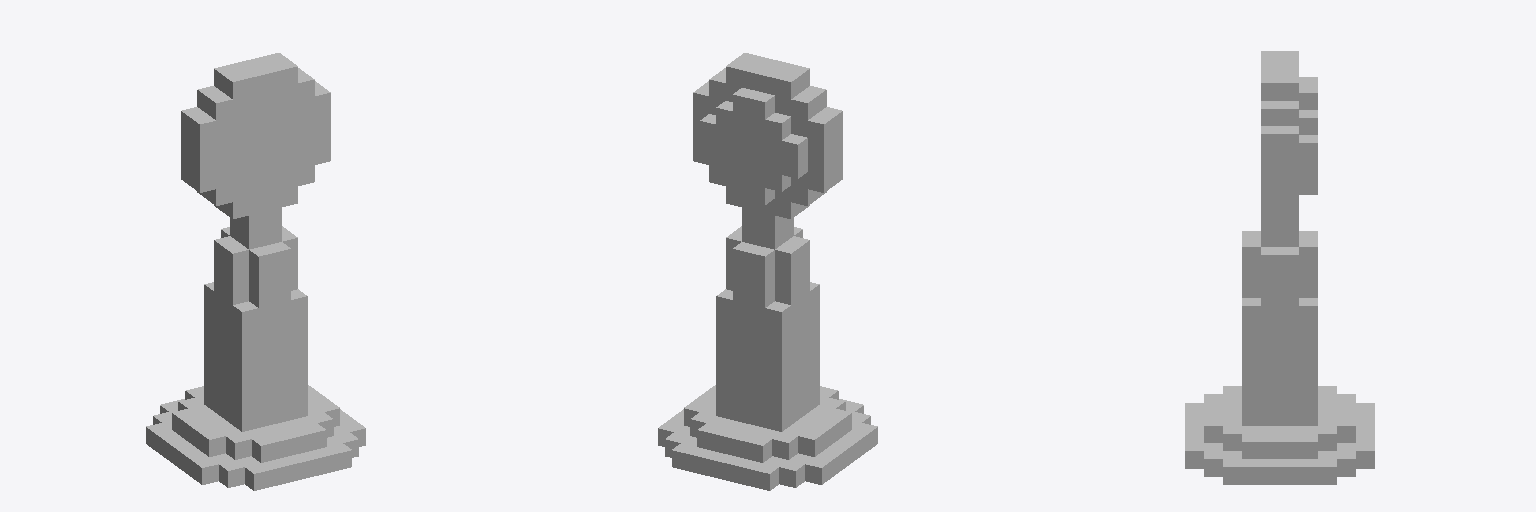
File: Pressure Gauge.obj
The picture shows the model from 3 angles: view 1: azimuth 30°, elevation 25°; view 2: azimuth 150°, elevation 25°; view 3: azimuth 270°, elevation 25°; orthographic projection.
Parts seen in each view (by area): view 1: object 1; view 2: object 1; view 3: object 1.
Boxes of the visible parts, <box> form: object 1: <box>146,53,365,490</box>; object 1: <box>658,53,877,490</box>; object 1: <box>1185,51,1374,484</box>.
Size of the model in its own units: 1 by 2.2 by 1.